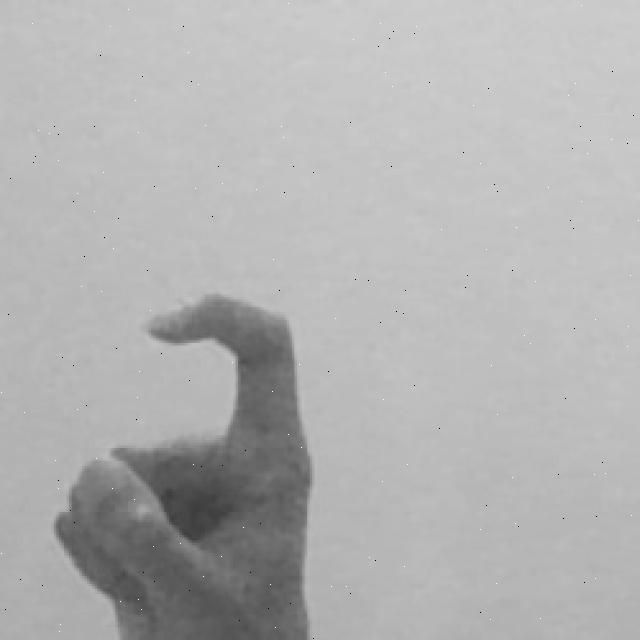X: (45, 289, 328, 640)
